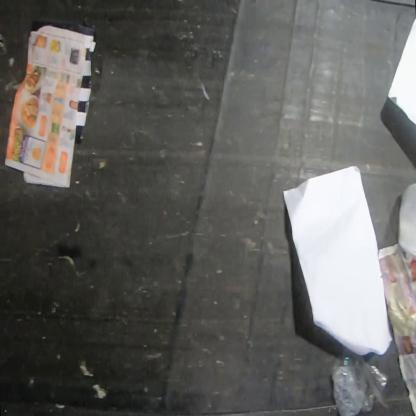rigid_plastic: (330, 346, 391, 415)
soft_plastic: (397, 183, 415, 259)
